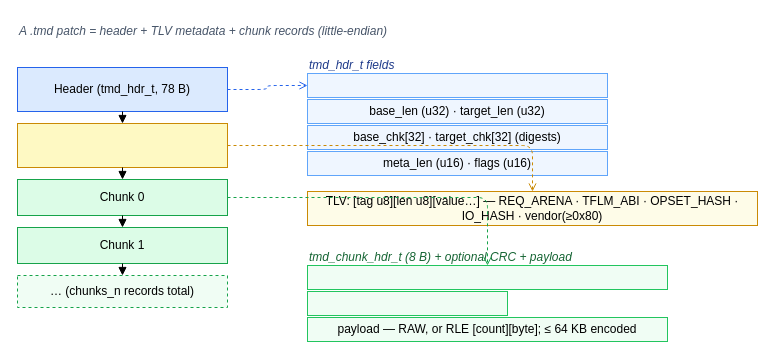
Some shapes in this 775 by 359 pixel diagram are drawn without their labels. Here are the shapes that lost their labels. From the top down, the box of each, then its label:
(306, 72, 608, 98): v (u8) · algo (u8) · chunks_n (u16)
(16, 122, 228, 168): Metadata TLVs (meta_len B)
(306, 264, 668, 290): off (u32) · len (u16) · enc (u8: RAW/RLE) · has_crc (u8)
(306, 290, 508, 316): [optional CRC32 (4 B)]
